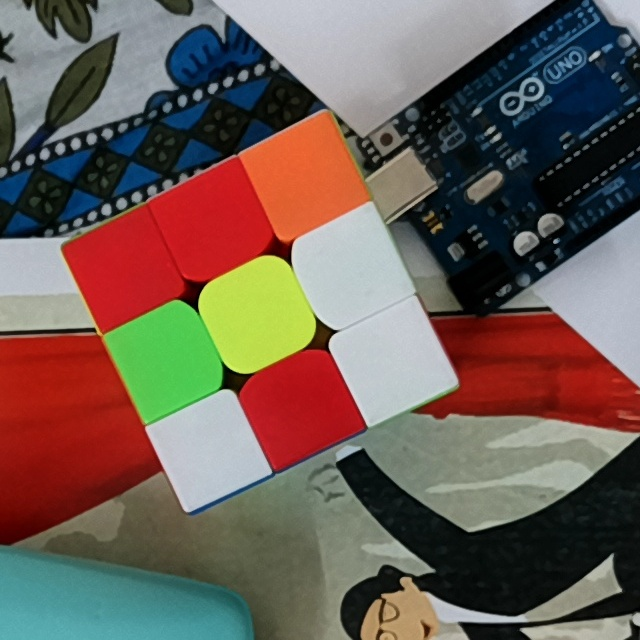tile: (222, 276, 296, 350), (316, 230, 389, 305), (269, 140, 341, 214), (358, 324, 431, 396), (129, 324, 201, 394), (267, 369, 339, 439), (176, 189, 248, 258), (174, 414, 245, 483), (87, 236, 158, 298)
